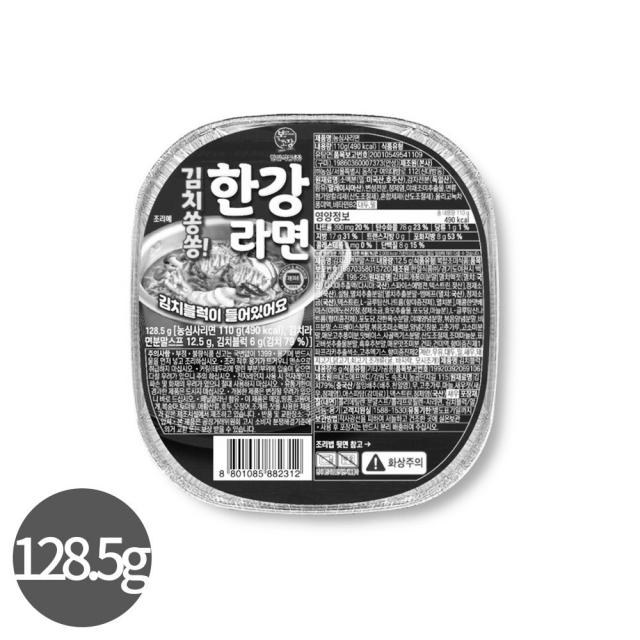Nutrition Label: (307, 207, 488, 255)
